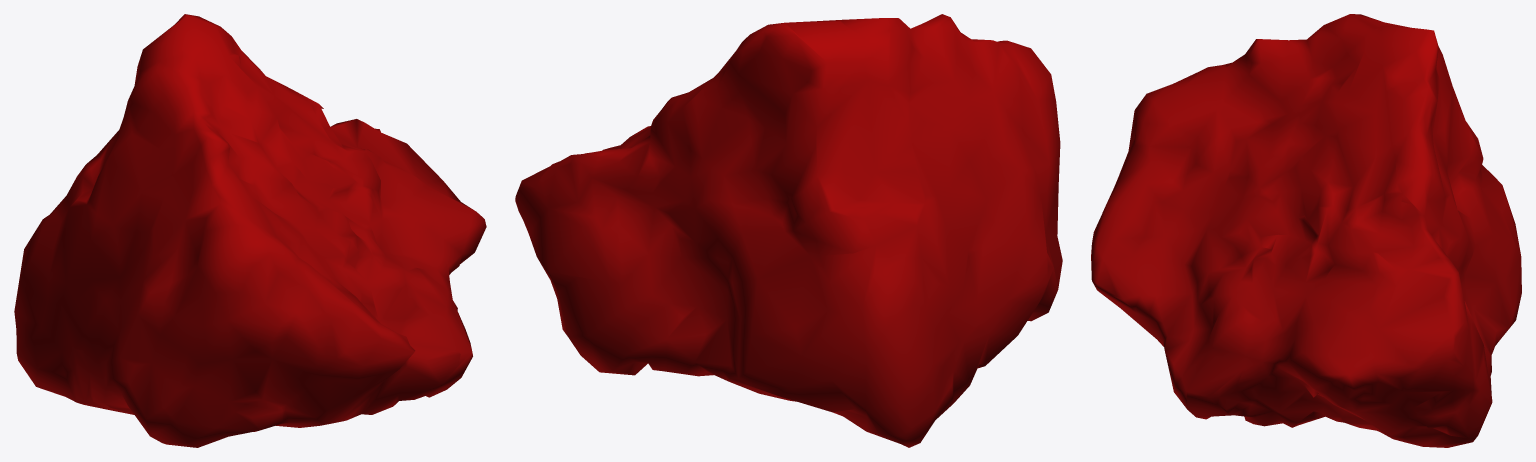
Rendered from mossrock_a_04.glb.
3 renders of one model, left to right at view 1: azimuth 30°, elevation 25°; view 2: azimuth 150°, elevation 25°; view 3: azimuth 270°, elevation 25°, orthographic. The views are drawn at different scales.
Visible parts, largest first — view 1: LOD0; view 2: LOD0; view 3: LOD0.
Boxes of the visible parts, bbox=[...] form: LOD0: bbox=[14, 14, 486, 447]; LOD0: bbox=[515, 14, 1062, 447]; LOD0: bbox=[1091, 14, 1521, 447].
Size of what is drawn, in the model's own units: 2.13 by 1.76 by 1.96.
